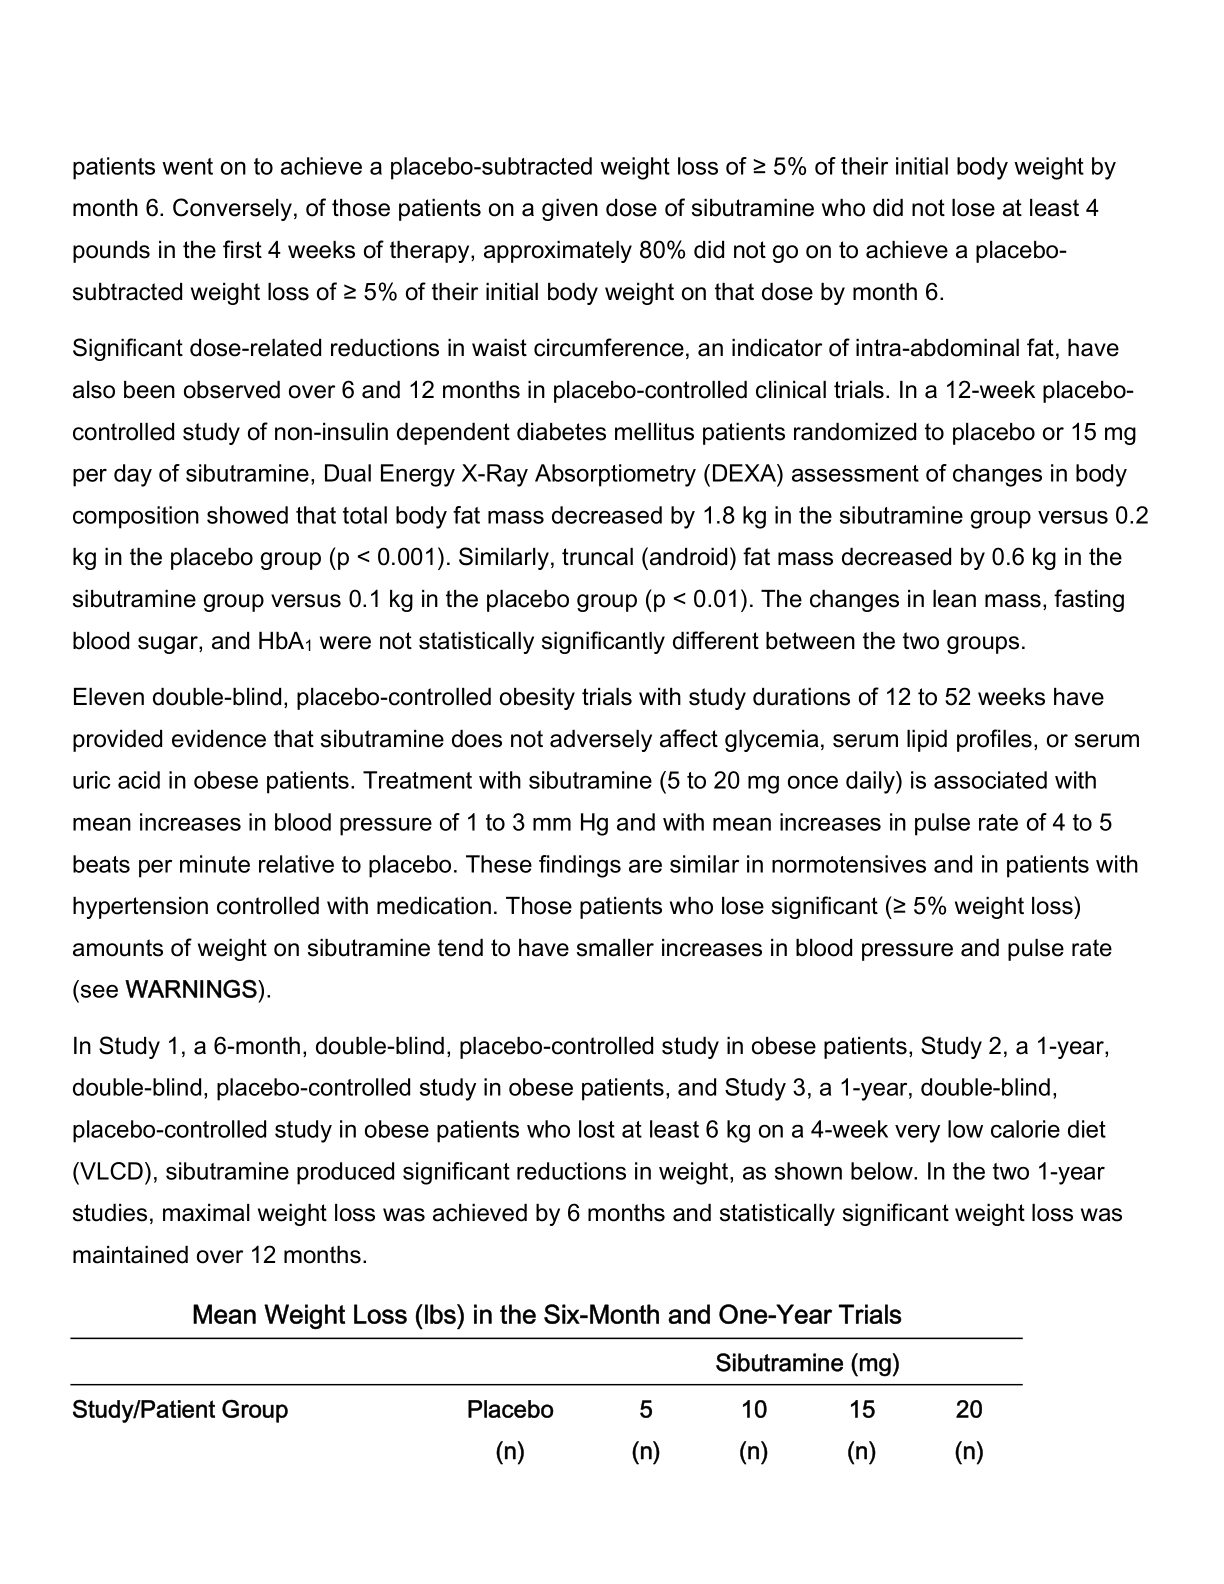partial_lined: (68, 1337, 1025, 1477)
